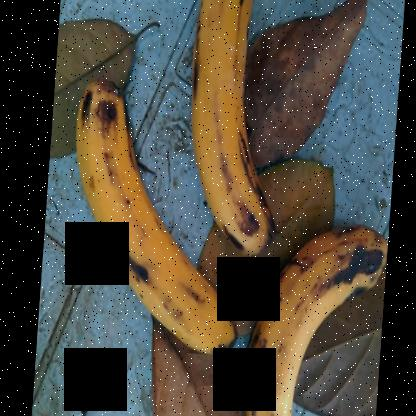overripe: (238, 223, 404, 415)
ripe: (74, 72, 242, 377), (179, 0, 287, 274)
